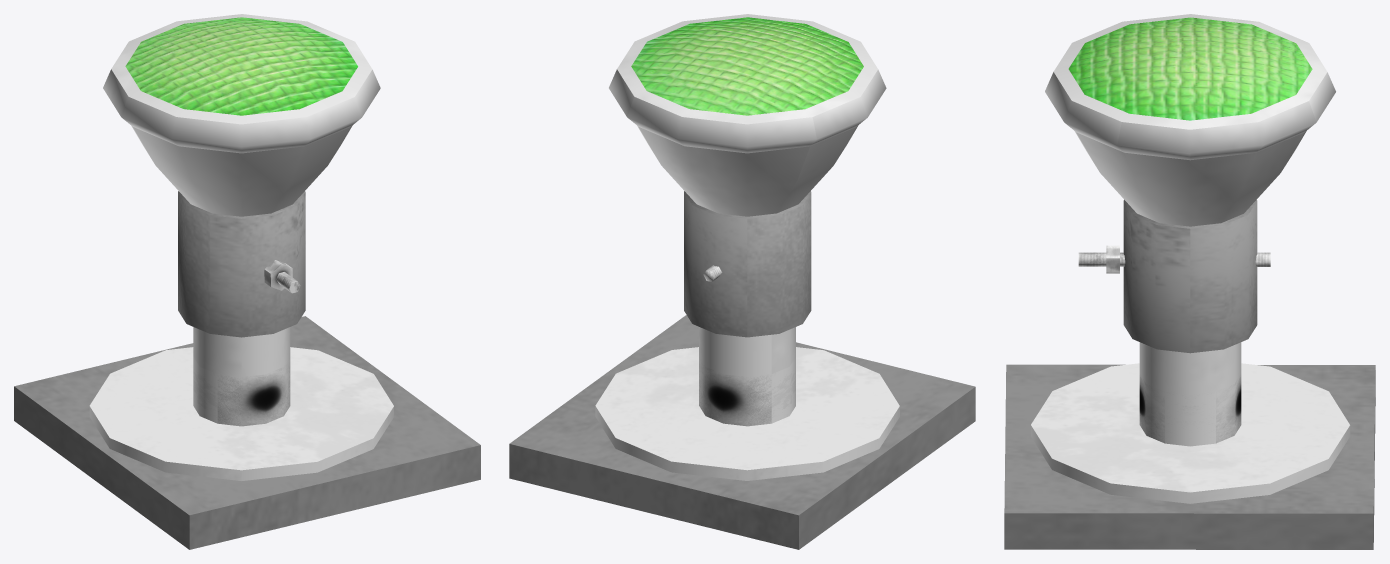
The model's file is Flood Green.fbx.
3 renders of one model, left to right at view 1: azimuth 30°, elevation 25°; view 2: azimuth 150°, elevation 25°; view 3: azimuth 270°, elevation 25°, orthographic. The views are drawn at different scales.
Visible parts, largest first — view 1: Circle.006; view 2: Circle.006; view 3: Circle.006.
Part boxes in pixels (box(x1,y1,x2,y2)): Circle.006: box(14, 14, 480, 549); Circle.006: box(509, 14, 975, 549); Circle.006: box(1004, 14, 1375, 549).
Size of the model in its own units: 12.19 by 16.01 by 12.83.
